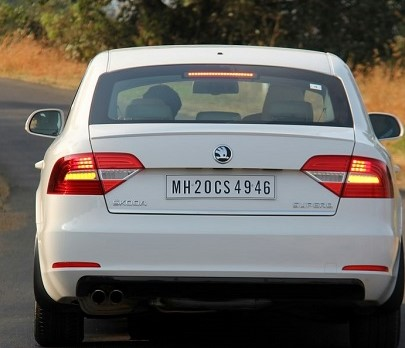MH20CS4946: (167, 175, 276, 198)
